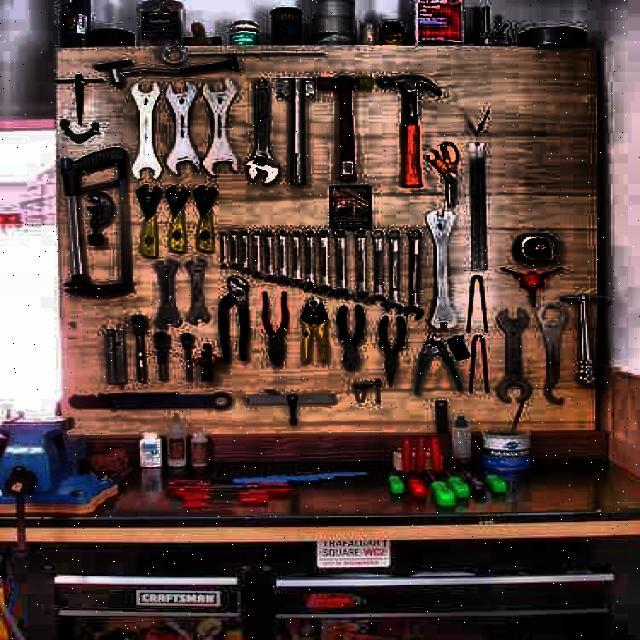hammer: (383, 72, 446, 192)
